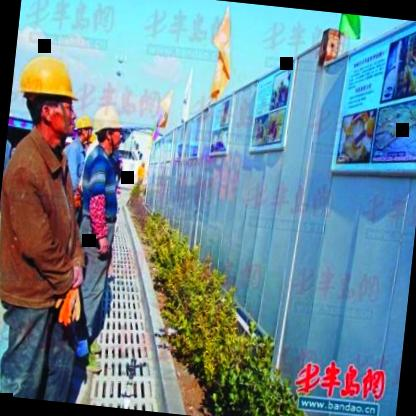helmet: (13, 48, 82, 146), (93, 104, 126, 152), (72, 112, 95, 145)
